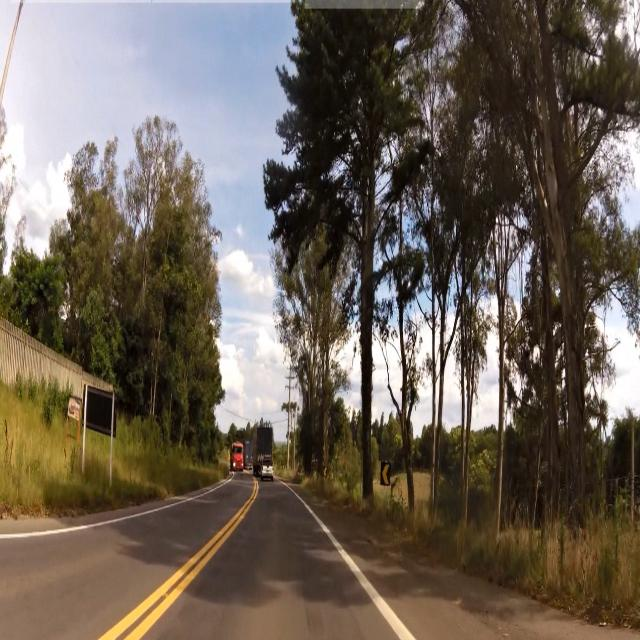Del: (383, 465, 391, 490)
